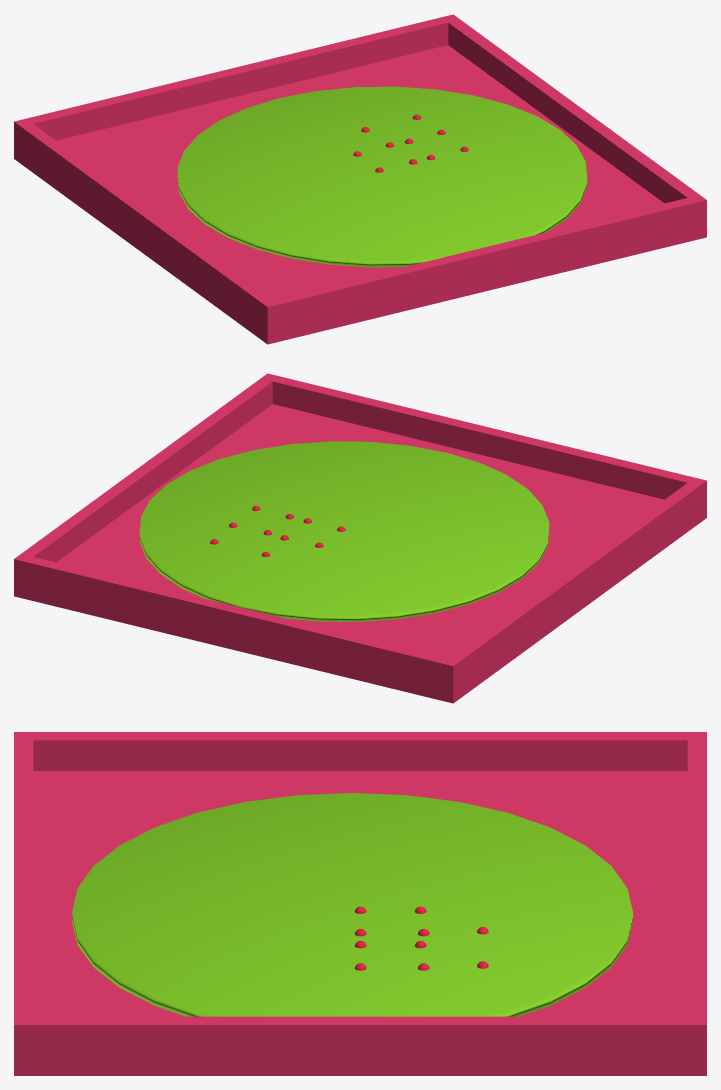
Rendered from Cookie.glb.
3 renders of one model, top to bottom at view 1: azimuth 30°, elevation 25°; view 2: azimuth 150°, elevation 25°; view 3: azimuth 270°, elevation 25°, orthographic. The views are drawn at different scales.
Parts seen in each view (by area): view 1: Cube, Cookie; view 2: Cube, Cookie; view 3: Cube, Cookie.
Part boxes in pixels (bbox=[...]): Cube: bbox=[14, 14, 706, 344]; Cookie: bbox=[177, 86, 587, 267]; Cube: bbox=[14, 373, 706, 703]; Cookie: bbox=[139, 441, 549, 621]; Cube: bbox=[14, 732, 706, 1075]; Cookie: bbox=[72, 793, 632, 1016].
Bounding box in the file's own units: 11.57 × 0.9395 × 11.57.
